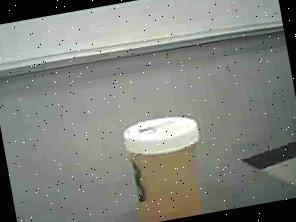Bottle B: (121, 111, 213, 222)
